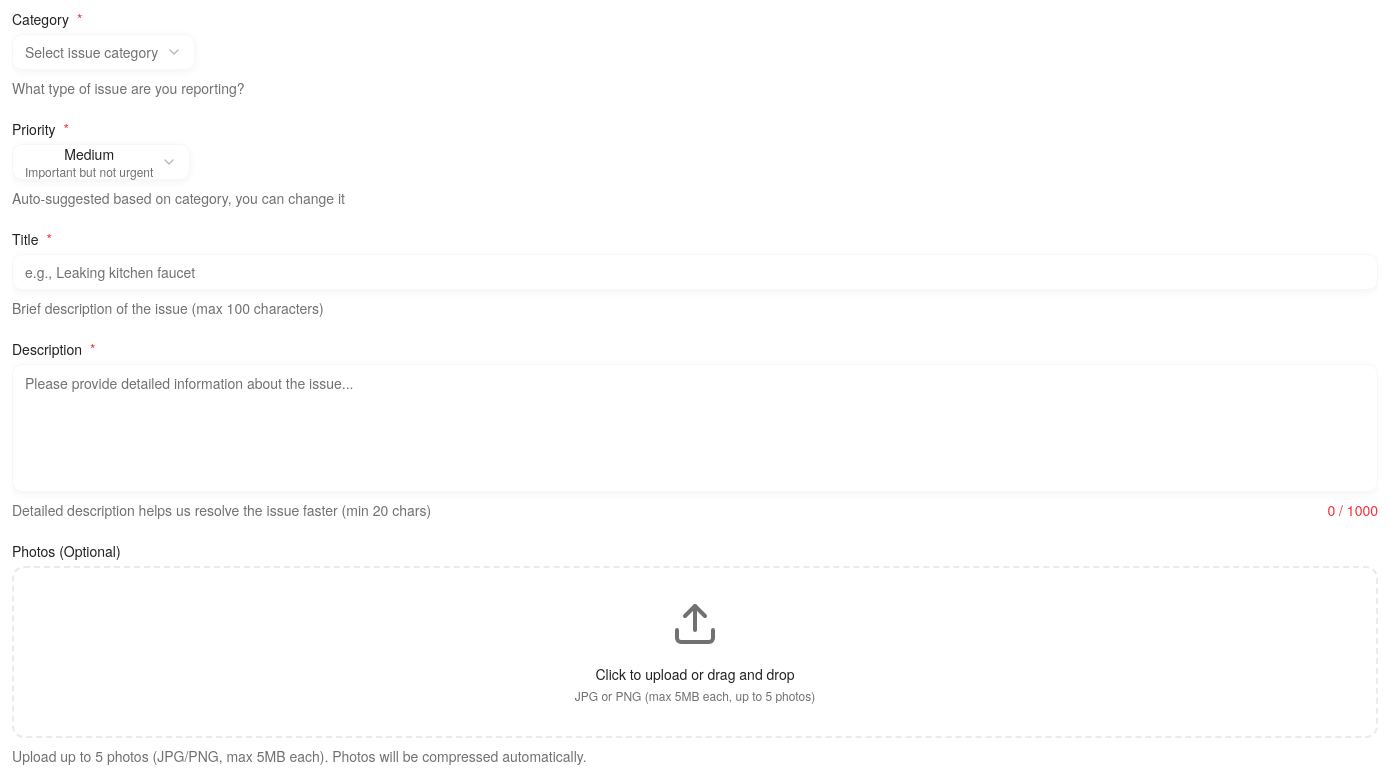
Test: MaintenanceRequestForm › auto-suggests priority based on category
// Open category select
Click the dropdown with test id "select-category" at (104, 52), box [12,34,195,70]
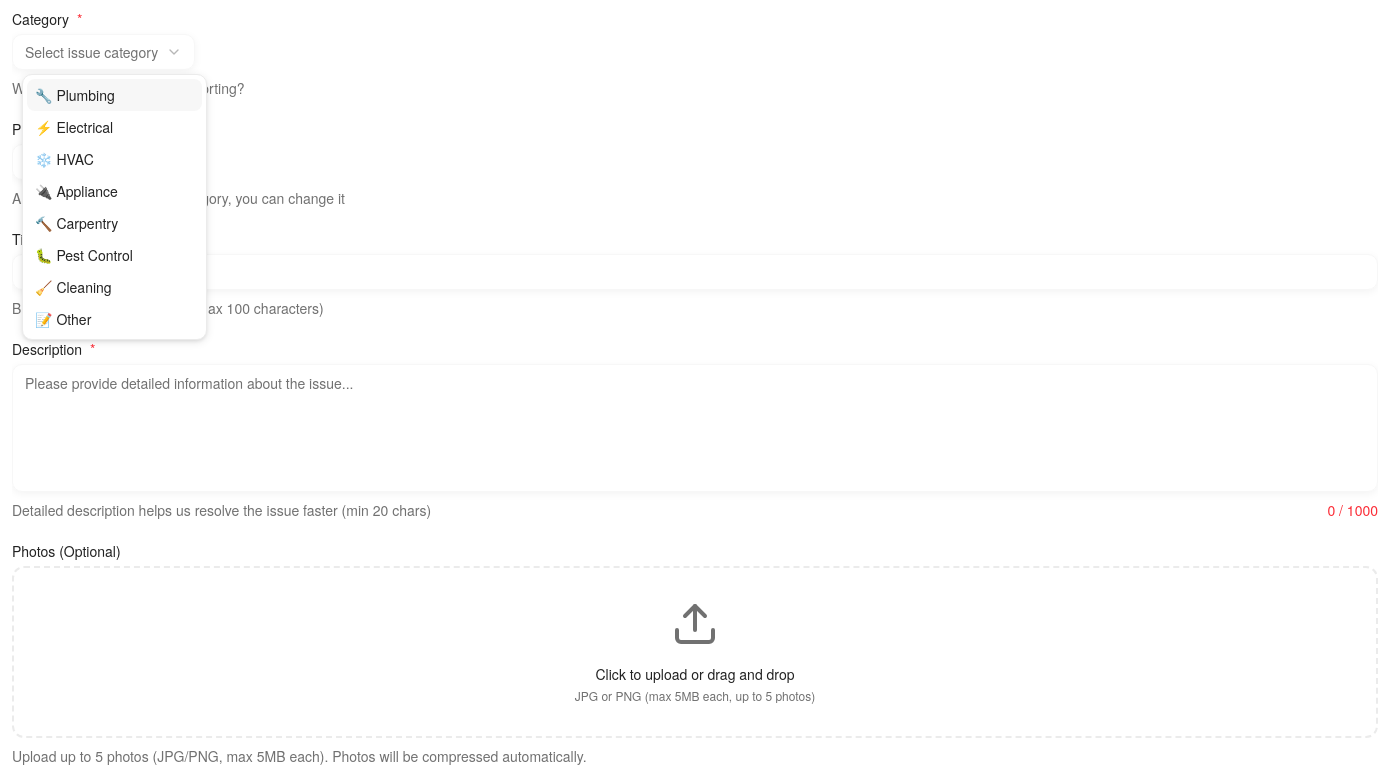
// Select Electrical (should be HIGH)
Click the option "⚡ Electrical" at (74, 127), box [35,117,113,137]
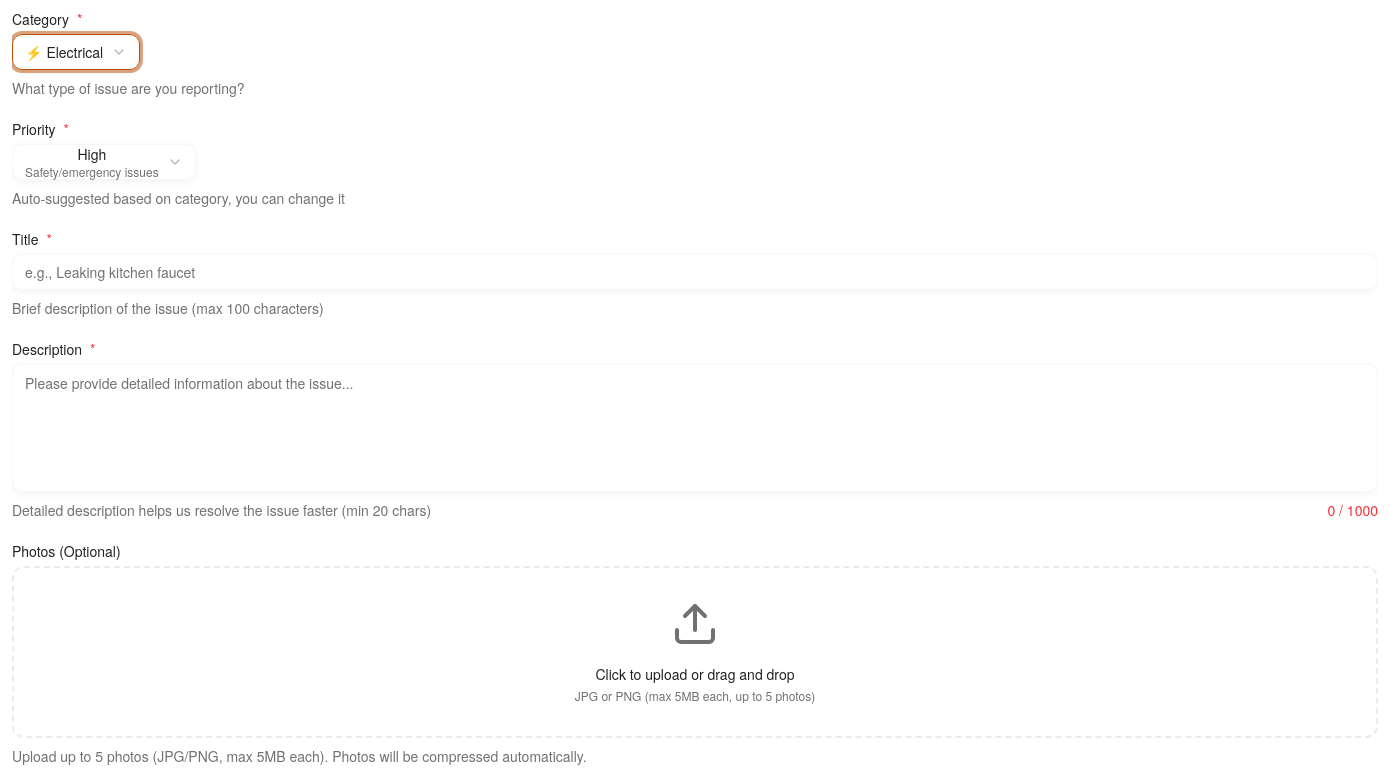
Expected: the dropdown with test id "select-priority" shows "High", [12,144,196,180]
